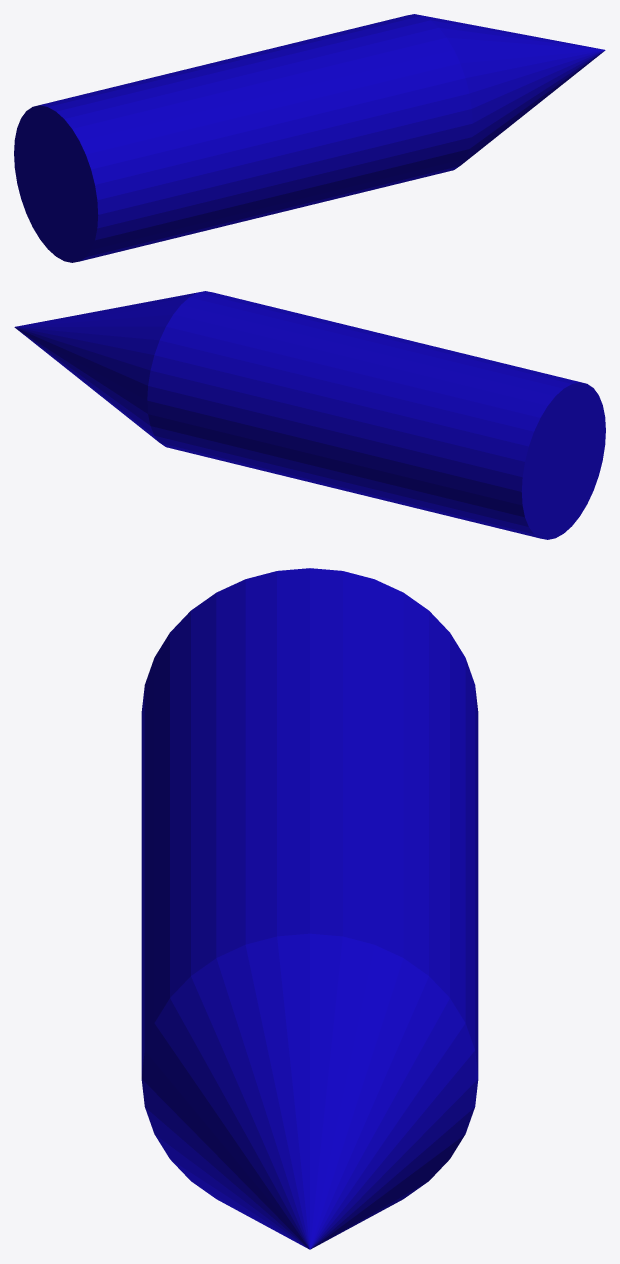
Rendered from BulletEnglandPrototyp.fbx.
3 views of the same model, one above another, from view 1: azimuth 30°, elevation 25°; view 2: azimuth 150°, elevation 25°; view 3: azimuth 270°, elevation 25° (orthographic). The views are drawn at different scales.
Parts seen in each view (by area): view 1: Cone; view 2: Cone; view 3: Cone.
Boxes of the visible parts, left/top/right/bottom form: Cone: left=14, top=14, right=605, bottom=262; Cone: left=14, top=291, right=605, bottom=539; Cone: left=141, top=568, right=478, bottom=1249.
Bounding box in the file's own units: 304 × 76.57 × 80.6.
